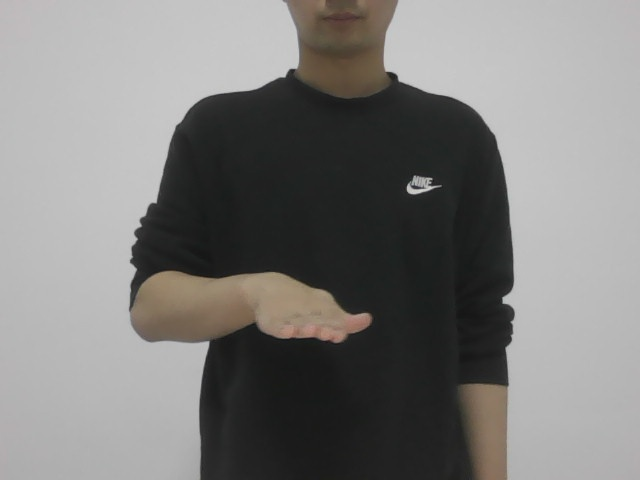slow: (236, 252, 393, 357)
